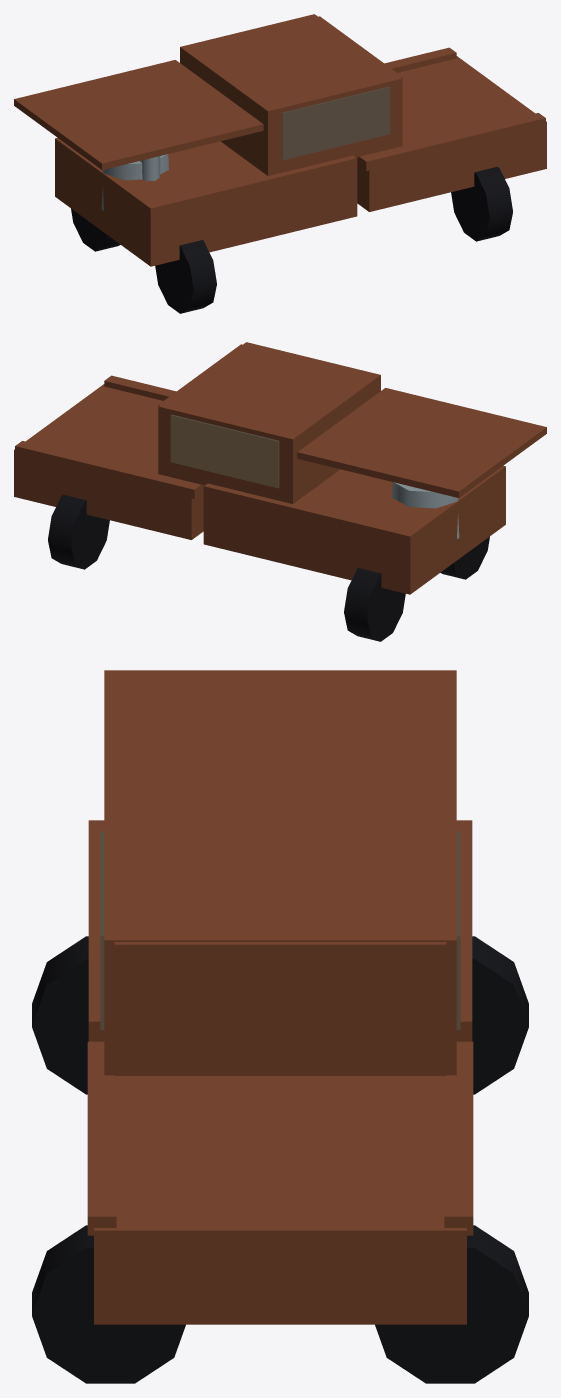
Rendered from toaster_wreck_pickup.glb.
3 views of the same model, one above another, from view 1: azimuth 30°, elevation 25°; view 2: azimuth 150°, elevation 25°; view 3: azimuth 270°, elevation 25° (orthographic). The views are drawn at different scales.
Visible parts, largest first — view 1: toaster_wreck_pickup_body, toaster_wreck_pickup_cab, toaster_wreck_pickup_hood, toaster_wreck_pickup_wheels, toaster_wreck_pickup_glass, toaster_wreck_pickup_engine; view 2: toaster_wreck_pickup_body, toaster_wreck_pickup_cab, toaster_wreck_pickup_hood, toaster_wreck_pickup_wheels, toaster_wreck_pickup_glass, toaster_wreck_pickup_engine; view 3: toaster_wreck_pickup_body, toaster_wreck_pickup_cab, toaster_wreck_pickup_hood, toaster_wreck_pickup_wheels, toaster_wreck_pickup_glass.
Part boxes in pixels (box(x1,y1,x2,y2)): toaster_wreck_pickup_body: box(55, 47, 546, 266); toaster_wreck_pickup_cab: box(180, 14, 402, 175); toaster_wreck_pickup_hood: box(14, 60, 263, 169); toaster_wreck_pickup_wheels: box(71, 166, 512, 313); toaster_wreck_pickup_glass: box(281, 86, 390, 160); toaster_wreck_pickup_engine: box(101, 154, 168, 210); toaster_wreck_pickup_body: box(14, 375, 505, 594); toaster_wreck_pickup_cab: box(158, 342, 380, 503); toaster_wreck_pickup_hood: box(297, 388, 546, 497); toaster_wreck_pickup_wheels: box(48, 494, 489, 641); toaster_wreck_pickup_glass: box(170, 414, 279, 488); toaster_wreck_pickup_engine: box(392, 482, 459, 538); toaster_wreck_pickup_body: box(87, 820, 473, 1324); toaster_wreck_pickup_cab: box(104, 808, 456, 1075); toaster_wreck_pickup_hood: box(104, 670, 456, 808); toaster_wreck_pickup_wheels: box(32, 936, 528, 1383); toaster_wreck_pickup_glass: box(100, 831, 460, 1030).
Size of the model in its own units: 4.93 by 1.88 by 2.4.
